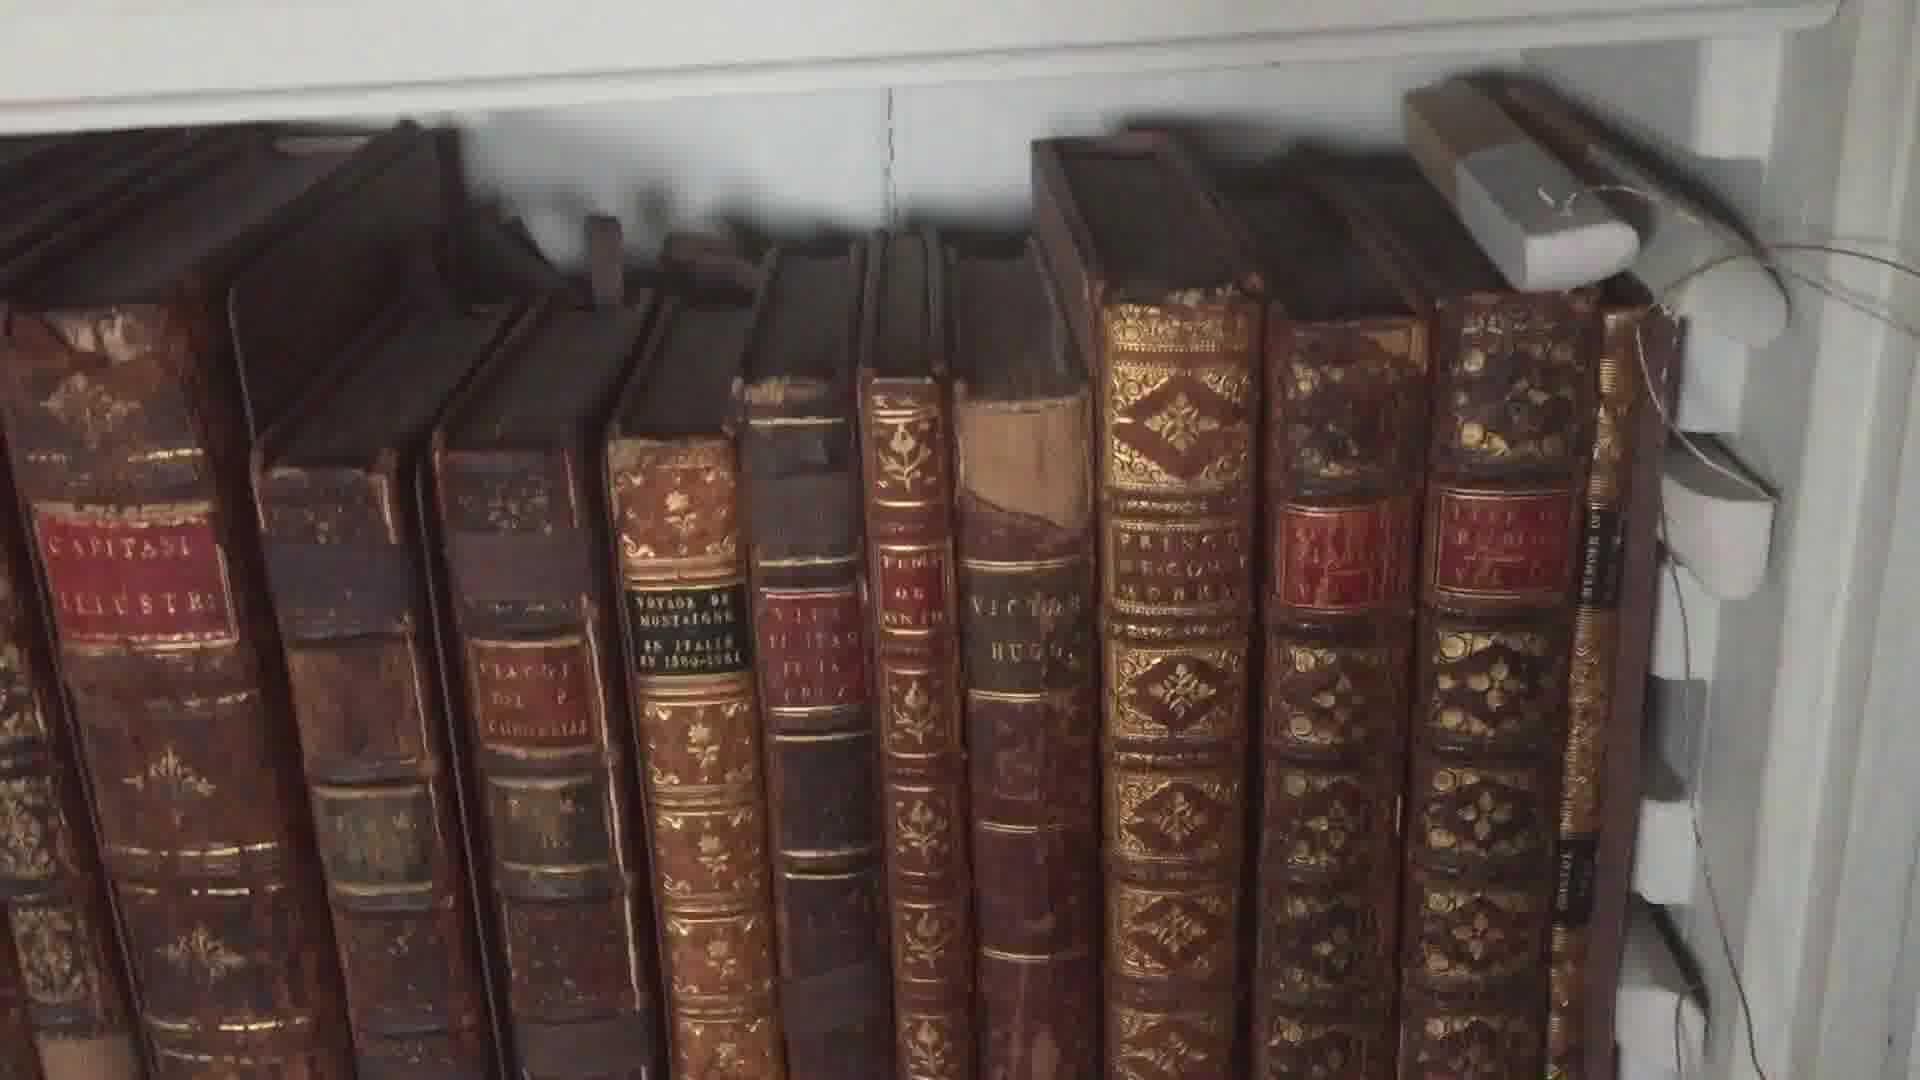Aa6-38: (15, 291, 324, 1068)
Aa6-39_40: (241, 425, 667, 1080)
Aa6-41: (604, 405, 790, 1080)
Aa6-42: (727, 357, 884, 1080)
Aa6-43: (853, 342, 982, 1069)
Aa6-44: (965, 392, 1106, 1080)
Aa6-45: (1097, 278, 1258, 1073)
Aa6-46-47: (1270, 297, 1552, 1080)
Aa6-48: (1548, 297, 1677, 1080)
